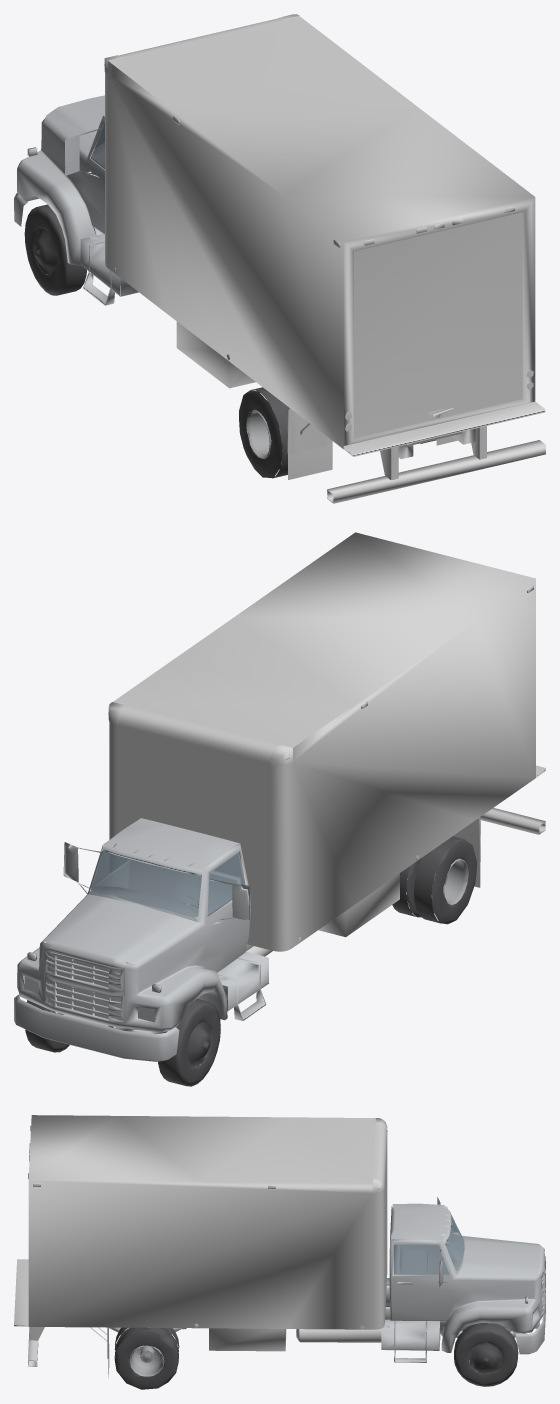
File: truck-npc.glb
3 views of the same model, one above another, from view 1: azimuth 30°, elevation 25°; view 2: azimuth 150°, elevation 25°; view 3: azimuth 270°, elevation 25° (orthographic). The views are drawn at different scales.
Visible parts, largest first — view 1: body; view 2: body, glass; view 3: body, glass.
Boxes of the visible parts, bbox=[...] form: body: bbox=[14, 14, 545, 503]; body: bbox=[14, 532, 545, 1086]; glass: bbox=[90, 851, 245, 917]; body: bbox=[14, 1115, 545, 1389]; glass: bbox=[390, 1214, 464, 1274].
Size of the model in its own units: 2.31 by 3.07 by 7.1.
